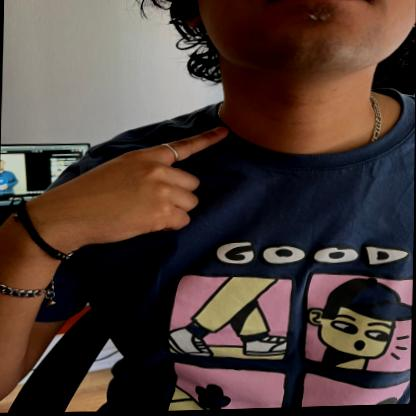Q: (37, 109, 249, 261)
